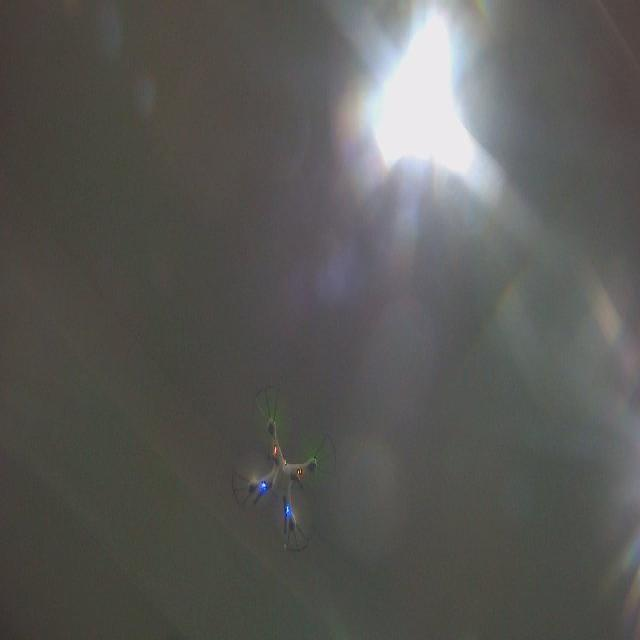drone: (229, 382, 340, 556)
